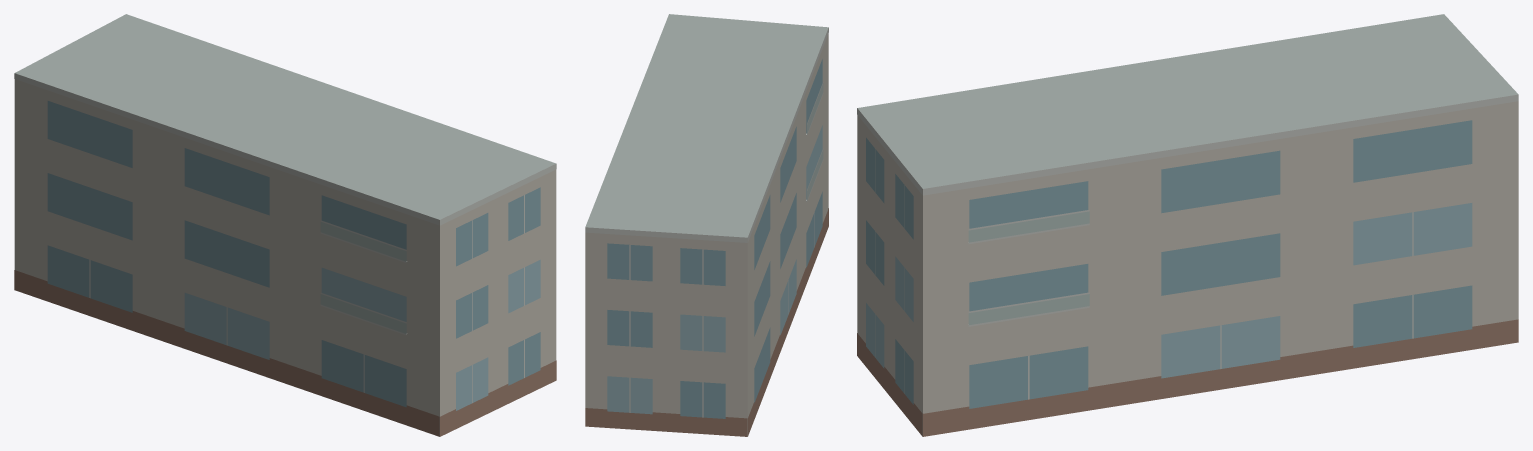
The model's file is survey-upis-32682040.glb.
3 views of the same model, side by side, from view 1: azimuth 30°, elevation 25°; view 2: azimuth 150°, elevation 25°; view 3: azimuth 270°, elevation 25° (orthographic). The views are drawn at different scales.
Visible parts, largest first — view 1: survey-upis-32682040.tmp; view 2: survey-upis-32682040.tmp; view 3: survey-upis-32682040.tmp.
Part boxes in pixels (x1,y1,x2,y2): survey-upis-32682040.tmp: (14,14,556,436); survey-upis-32682040.tmp: (585,14,828,436); survey-upis-32682040.tmp: (857,14,1518,436).
Bounding box in the file's own units: 13.86 × 9.15 × 22.14.
